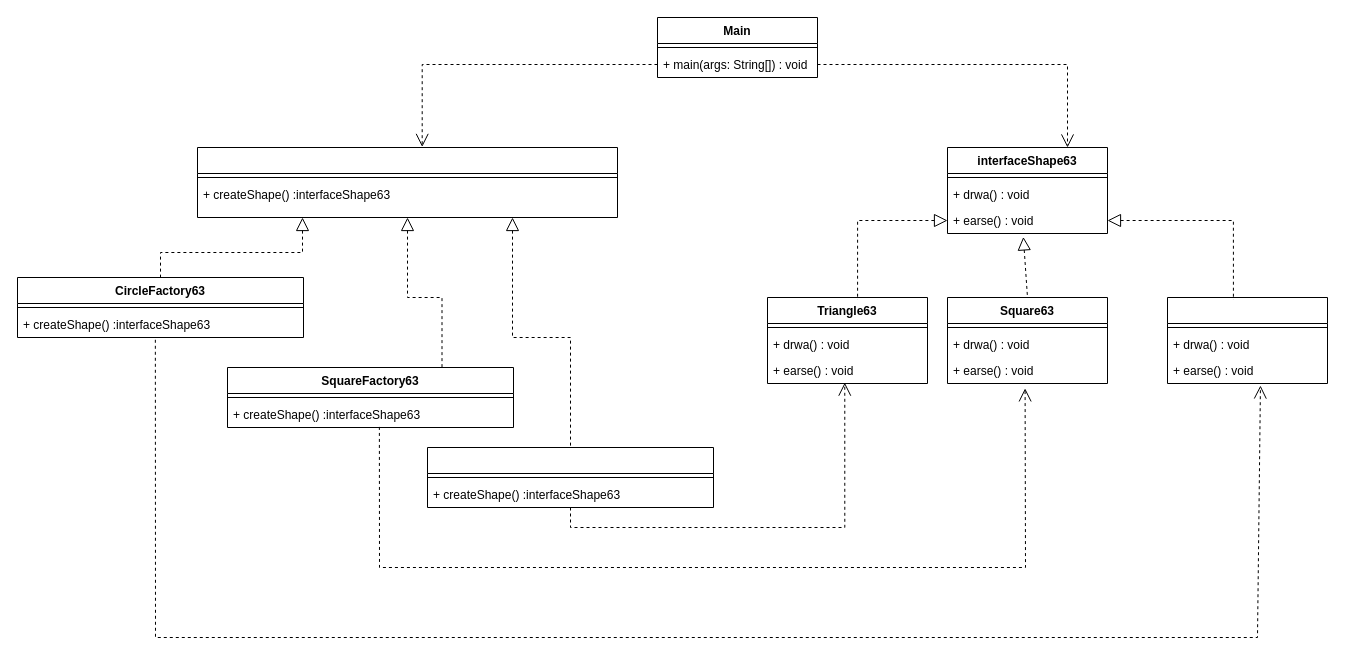
Some shapes in this 1345 by 668 pixel diagram are drawn without their labels. The box of each missing label's shape, as (x1, y1, x2, y2) in pixels:
Circle63: (1166, 296, 1328, 384)
ShapeFactory63: (196, 146, 618, 218)
TriangleFactory63: (426, 446, 714, 508)
